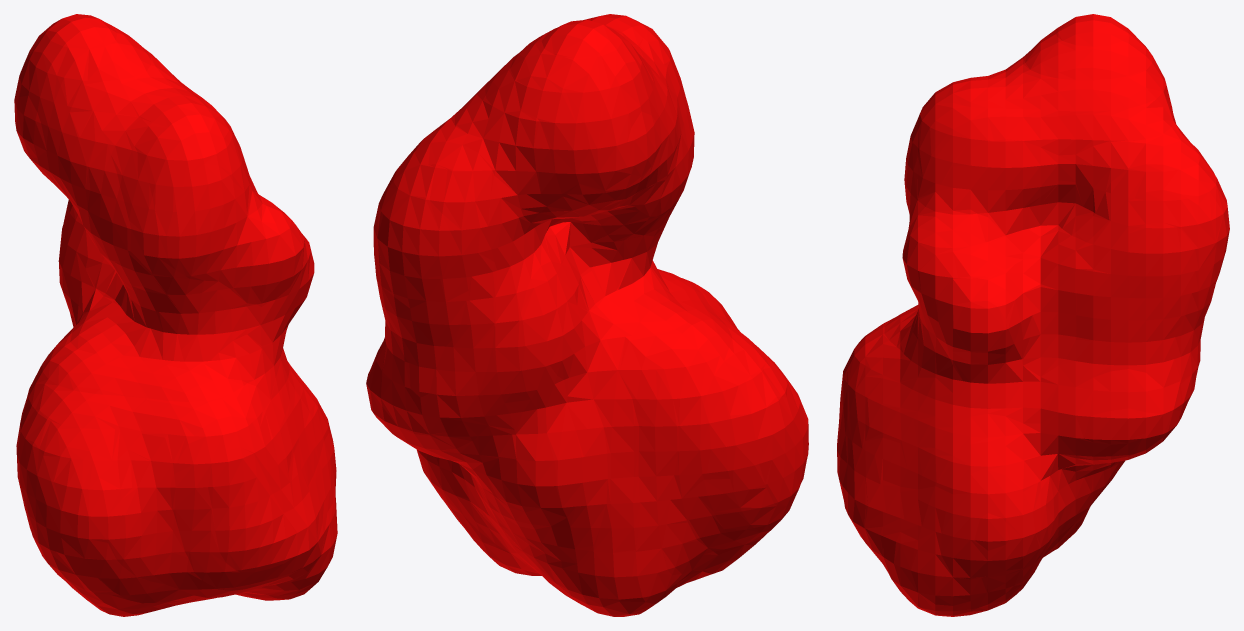
File: Insulin_2_coarse.dae
3 views of the same model, side by side, from view 1: azimuth 30°, elevation 25°; view 2: azimuth 150°, elevation 25°; view 3: azimuth 270°, elevation 25° (orthographic). The views are drawn at different scales.
Visible parts, largest first — view 1: Insulin_2; view 2: Insulin_2; view 3: Insulin_2.
Part boxes in pixels (left/top/right/bottom): Insulin_2: left=14, top=14, right=337, bottom=616; Insulin_2: left=366, top=14, right=808, bottom=616; Insulin_2: left=837, top=14, right=1229, bottom=616.
Bounding box in the file's own units: 34.18 × 58.06 × 38.42.
